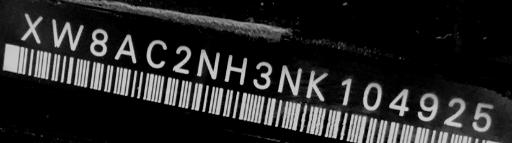letter: (50, 15, 84, 54), (222, 52, 252, 87), (275, 62, 303, 97), (113, 31, 139, 66), (20, 9, 44, 46), (196, 47, 222, 80), (304, 68, 330, 101), (442, 95, 468, 128), (470, 100, 496, 132), (144, 37, 168, 69), (415, 91, 439, 121), (361, 80, 383, 112), (251, 59, 273, 90), (171, 44, 193, 75), (388, 86, 410, 116), (88, 25, 108, 58), (338, 75, 354, 107)
